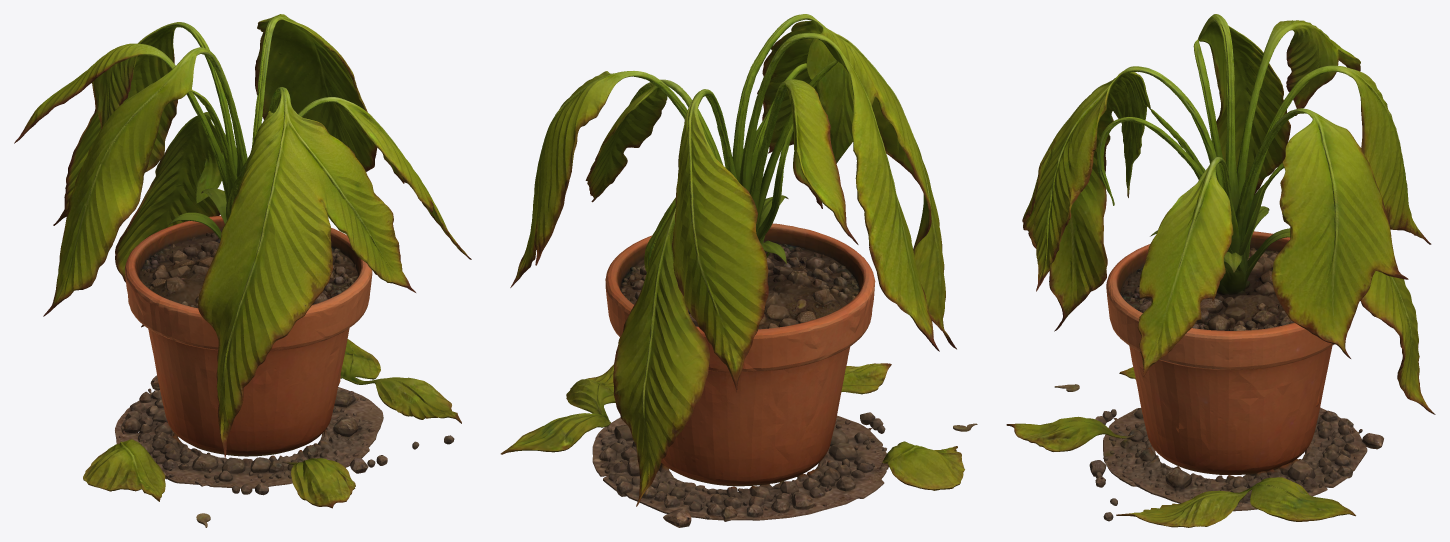
File: wilting-plant.glb
The picture shows the model from 3 angles, left to right: view 1: azimuth 30°, elevation 25°; view 2: azimuth 150°, elevation 25°; view 3: azimuth 270°, elevation 25°; orthographic projection. The views are drawn at different scales.
Parts seen in each view (by area): view 1: tripo_node_9e3b70fa-f235-42b6-916f-0cd9a084d16e; view 2: tripo_node_9e3b70fa-f235-42b6-916f-0cd9a084d16e; view 3: tripo_node_9e3b70fa-f235-42b6-916f-0cd9a084d16e.
Boxes of the visible parts, x1,y1,x2,y2 form: tripo_node_9e3b70fa-f235-42b6-916f-0cd9a084d16e: (14, 14, 471, 527); tripo_node_9e3b70fa-f235-42b6-916f-0cd9a084d16e: (500, 14, 977, 527); tripo_node_9e3b70fa-f235-42b6-916f-0cd9a084d16e: (1006, 14, 1435, 527).
Size of the model in its own units: 0.9619 by 0.996 by 0.9481.
1 material, 1 textured.
